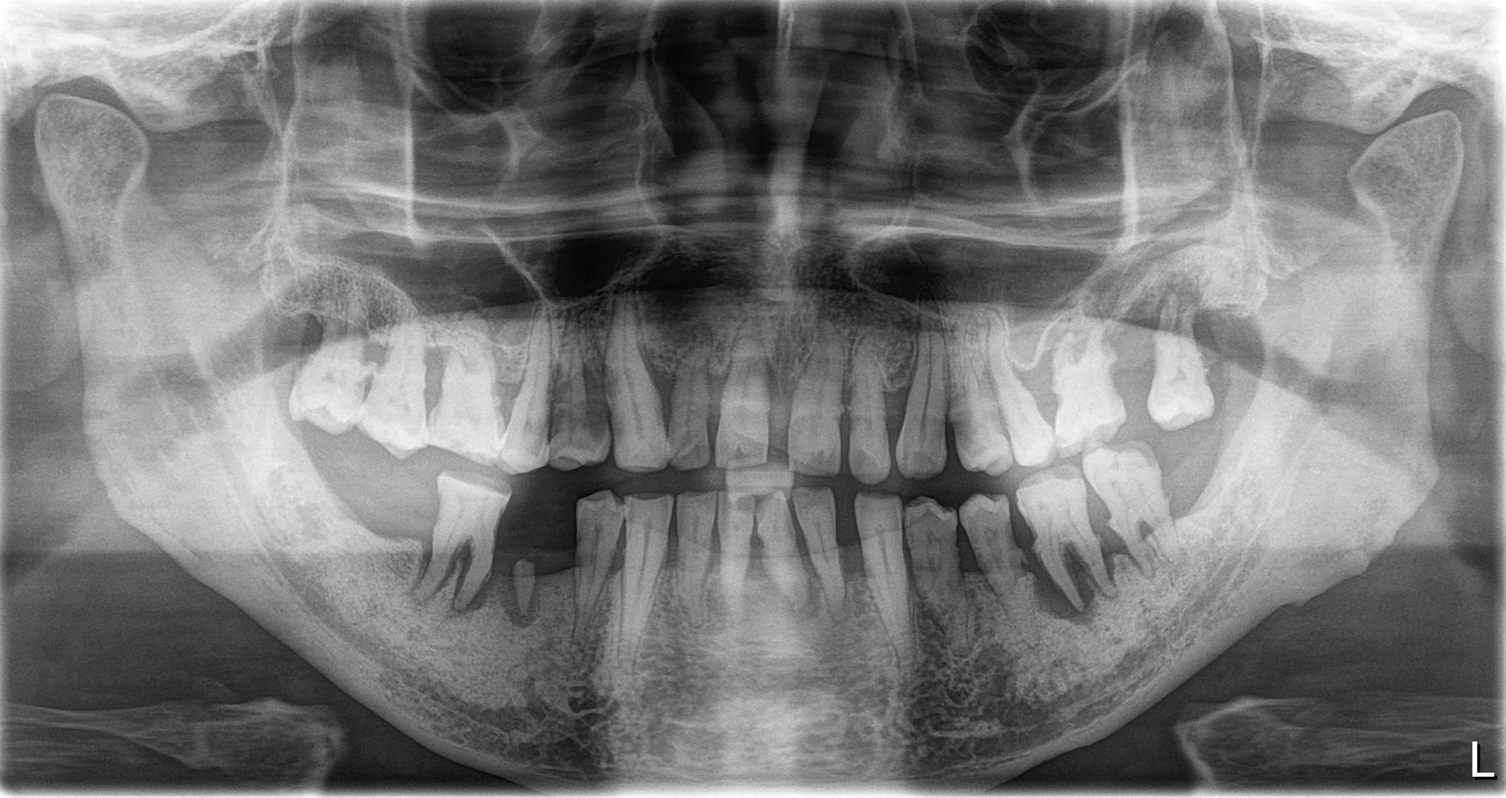Dental Caries: (546, 369, 633, 440)
Missing Tooth: (1202, 309, 1267, 413), (377, 472, 424, 600), (1167, 450, 1224, 522), (322, 468, 357, 582), (540, 524, 574, 607)
Retained Root: (496, 549, 540, 645)
